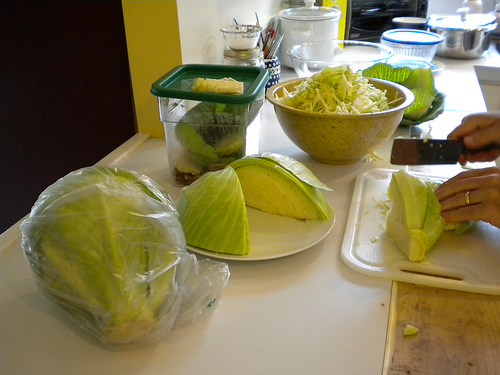cabbage: (22, 167, 185, 350), (178, 153, 327, 257), (383, 168, 442, 262)
